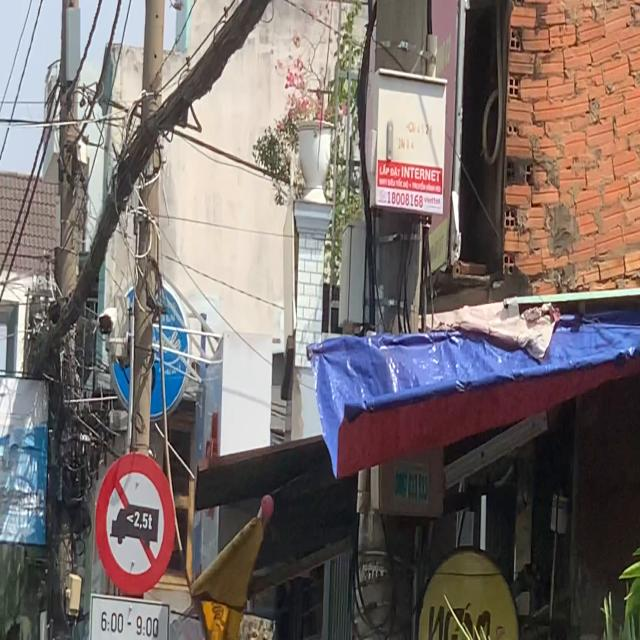Cam con lai: (94, 445, 176, 598)
